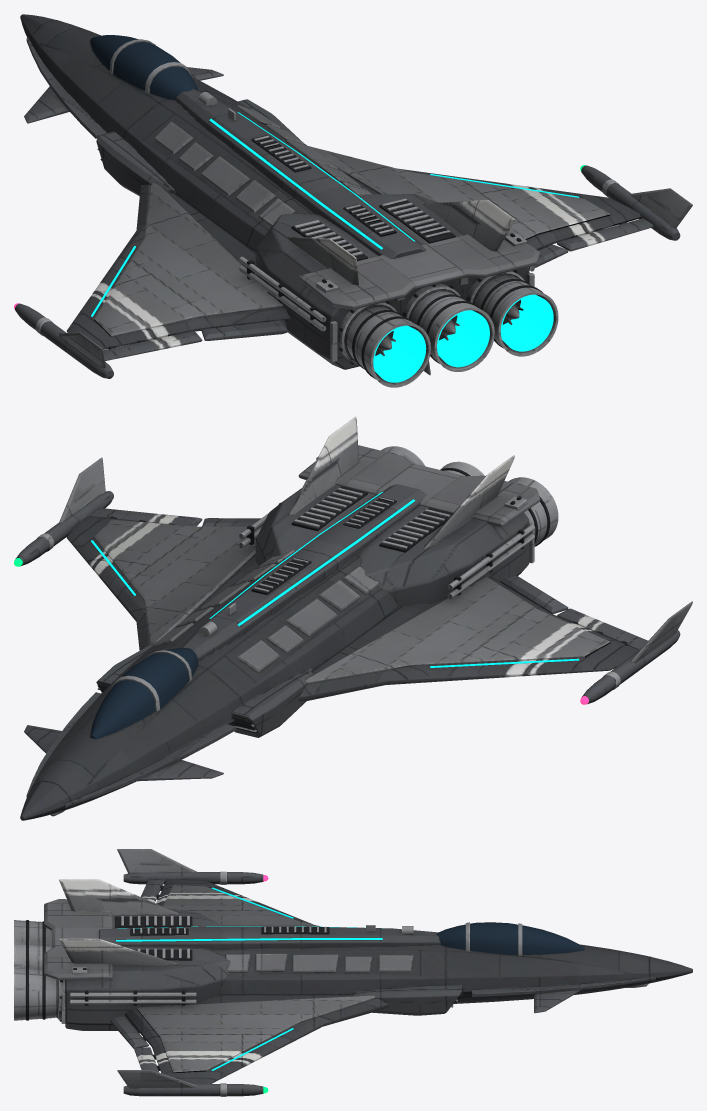
The model's file is spaceship.glb.
3 views of the same model, one above another, from view 1: azimuth 30°, elevation 25°; view 2: azimuth 150°, elevation 25°; view 3: azimuth 270°, elevation 25° (orthographic). The views are drawn at different scales.
Visible parts, largest first — view 1: Spaceship; view 2: Spaceship; view 3: Spaceship.
Boxes of the visible parts, x1=… form: Spaceship: x1=14, y1=14, x2=692, y2=387; Spaceship: x1=14, y1=416, x2=692, y2=820; Spaceship: x1=14, y1=849, x2=692, y2=1096.
Size of the model in its own units: 5.41 by 1.23 by 7.
7 materials, 2 textured.
